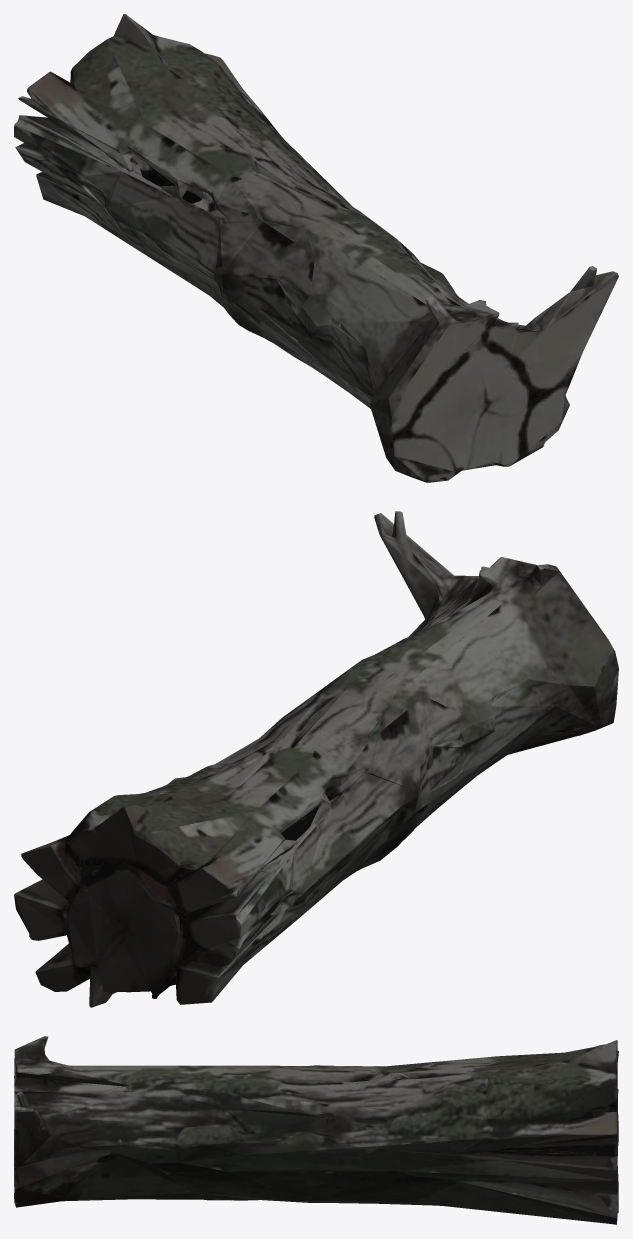
The model's file is bog_log_01.glb.
3 renders of one model, top to bottom at view 1: azimuth 30°, elevation 25°; view 2: azimuth 150°, elevation 25°; view 3: azimuth 270°, elevation 25°, orthographic. The views are drawn at different scales.
Parts seen in each view (by area): view 1: geometry_0; view 2: geometry_0; view 3: geometry_0.
Boxes of the visible parts, box(x1,y1,x2,y2) form: geometry_0: box(14, 14, 618, 482); geometry_0: box(14, 511, 618, 1007); geometry_0: box(14, 1036, 618, 1224).
Bounding box in the file's own units: 0.3744 × 0.299 × 0.9985.
1 material, 1 textured.
